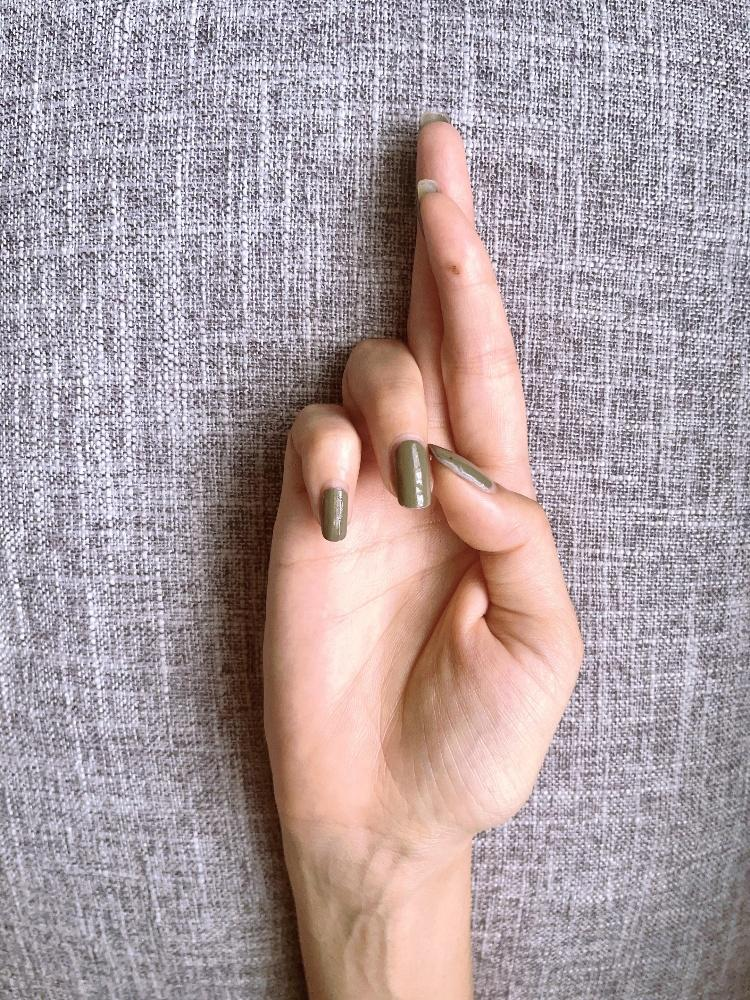r: (255, 114, 586, 839)
